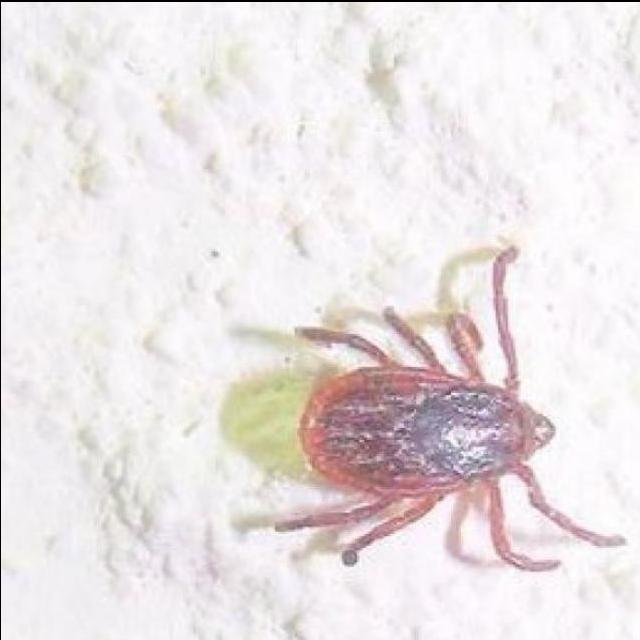Rhipicephalus Sanguineus-F: (281, 242, 624, 572)
